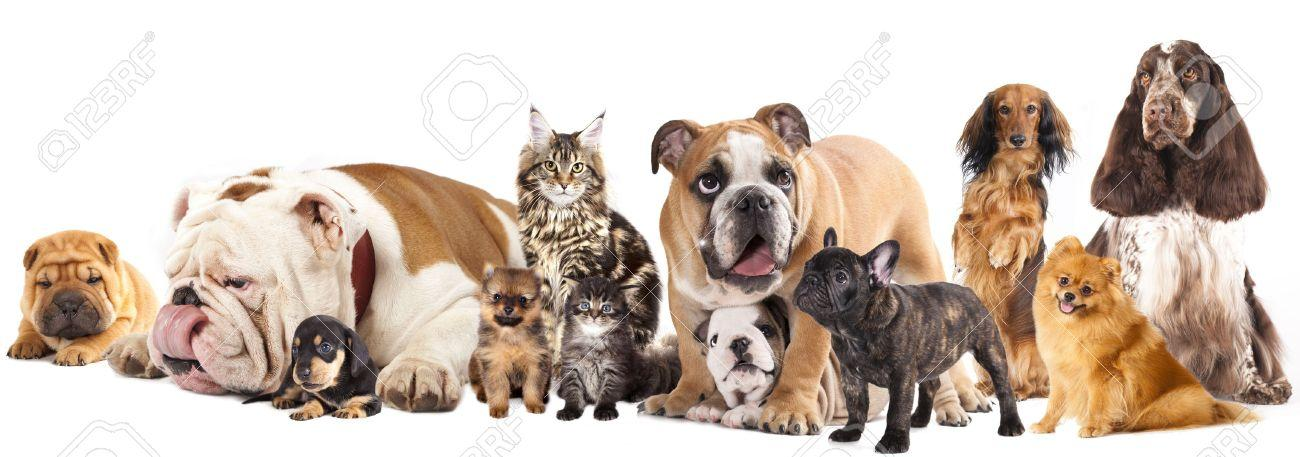cats: (516, 97, 656, 266), (559, 276, 661, 436)
dogs: (1091, 31, 1284, 370), (800, 211, 1026, 444), (944, 44, 1065, 401), (1037, 243, 1246, 439), (144, 141, 296, 400), (647, 94, 825, 311), (9, 210, 148, 387), (664, 311, 808, 441), (276, 311, 408, 428), (467, 256, 556, 428)
